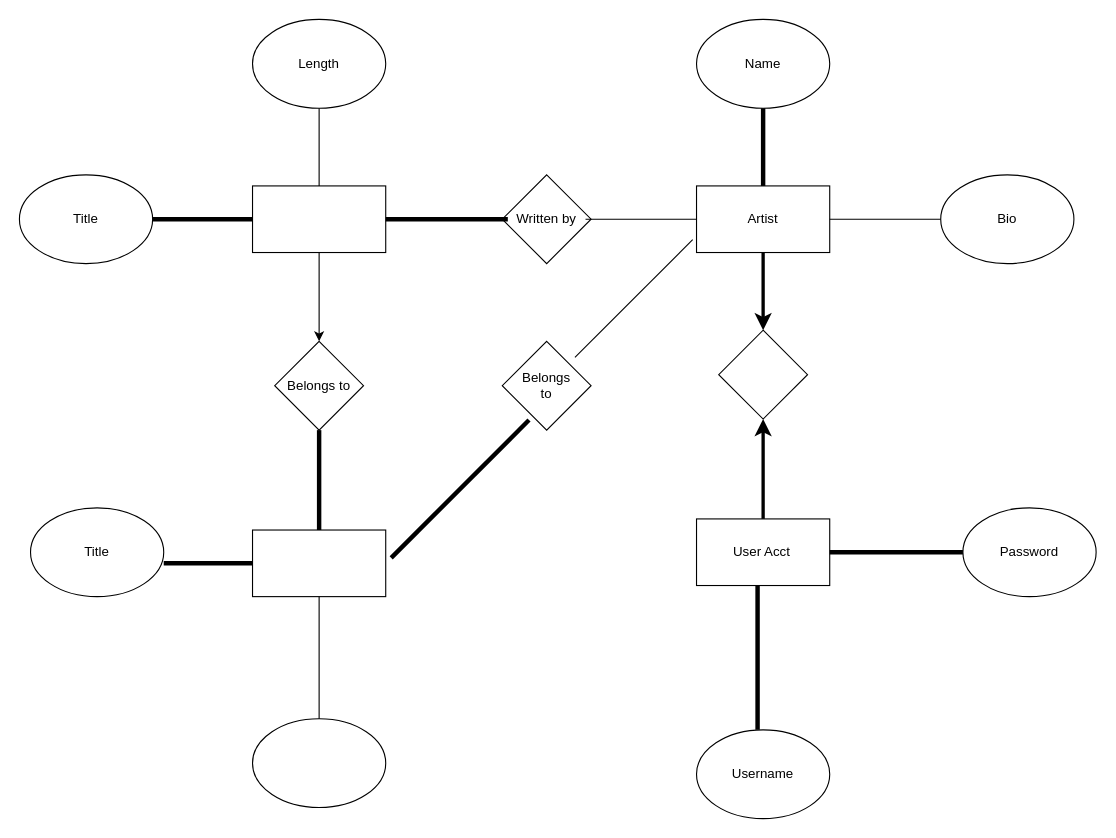
Image size: 1116x838. Some labels were removed from this diagram. Each missing label, with the box of its shape:
Album: (251, 529, 386, 597)
Has A: (718, 329, 808, 419)
Song: (251, 185, 386, 253)
